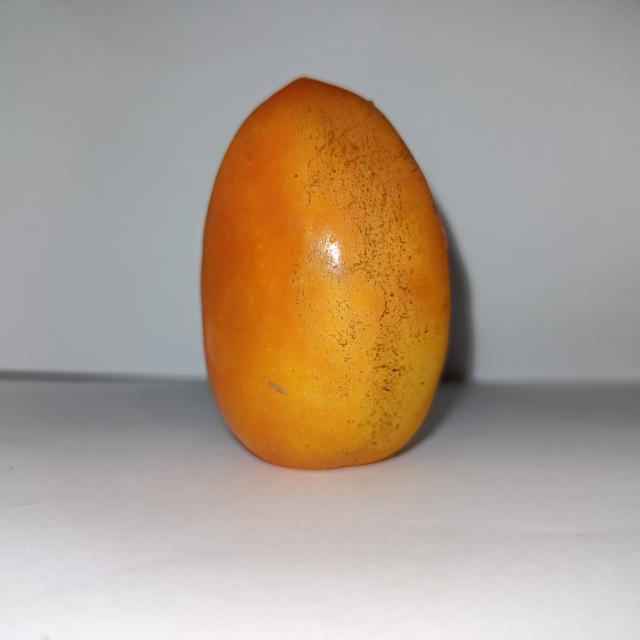Red: (198, 74, 453, 470)
